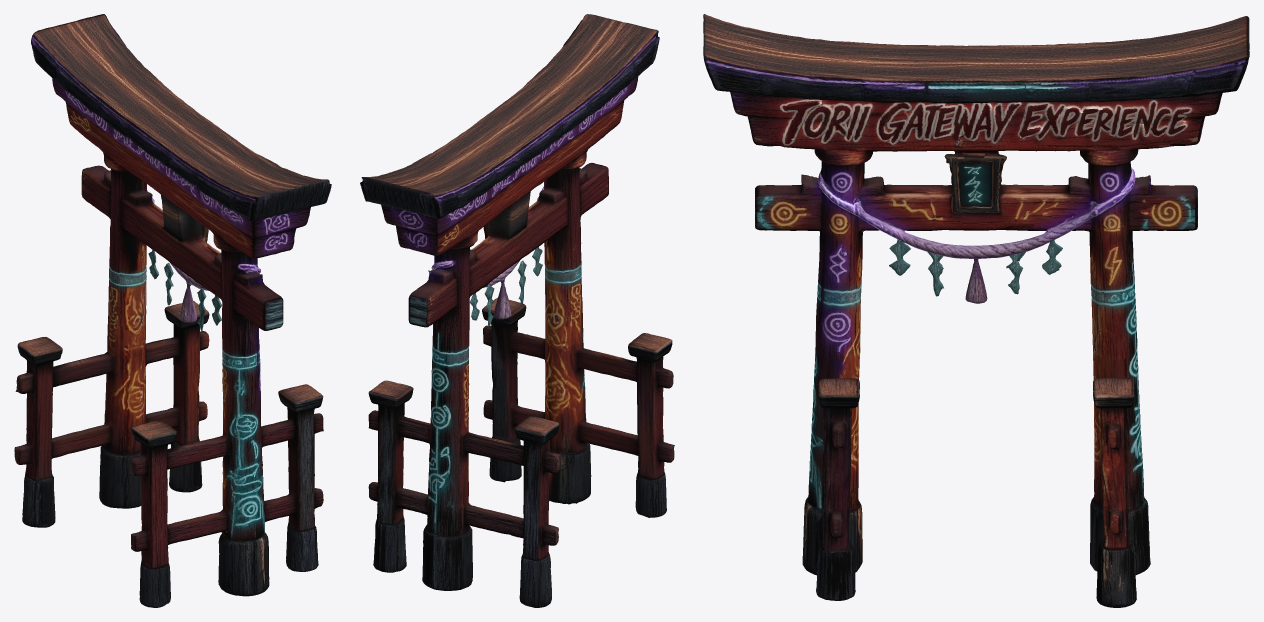
File: torii-gateway-experience.glb
3 views of the same model, side by side, from view 1: azimuth 30°, elevation 25°; view 2: azimuth 150°, elevation 25°; view 3: azimuth 270°, elevation 25° (orthographic). The views are drawn at different scales.
Visible parts, largest first — view 1: tripo_node_63a96134-eb55-42f1-9b92-ee3ac414b322; view 2: tripo_node_63a96134-eb55-42f1-9b92-ee3ac414b322; view 3: tripo_node_63a96134-eb55-42f1-9b92-ee3ac414b322.
Part boxes in pixels (x1=…): tripo_node_63a96134-eb55-42f1-9b92-ee3ac414b322: x1=14, y1=14, x2=331, y2=607; tripo_node_63a96134-eb55-42f1-9b92-ee3ac414b322: x1=360, y1=14, x2=674, y2=607; tripo_node_63a96134-eb55-42f1-9b92-ee3ac414b322: x1=703, y1=14, x2=1249, y2=607.
Size of the model in its own units: 0.4531 by 0.9995 by 0.9365.
1 material, 1 textured.
